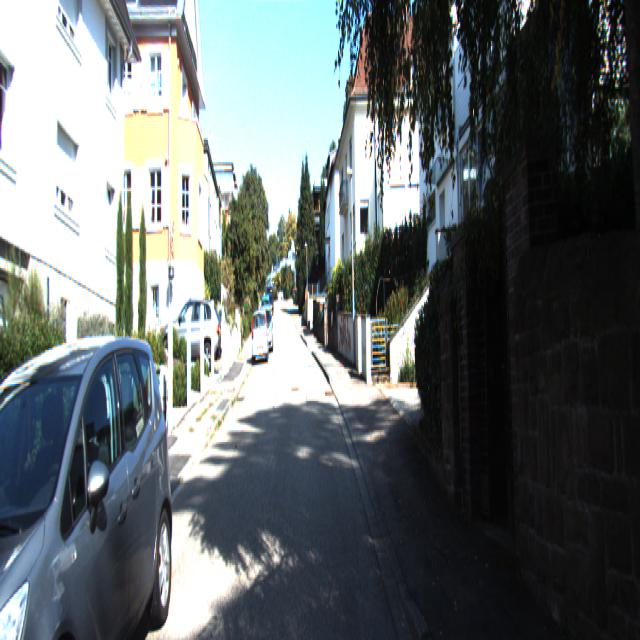Car: (0, 334, 180, 638), (160, 296, 223, 376), (251, 310, 270, 368), (256, 308, 274, 356)
